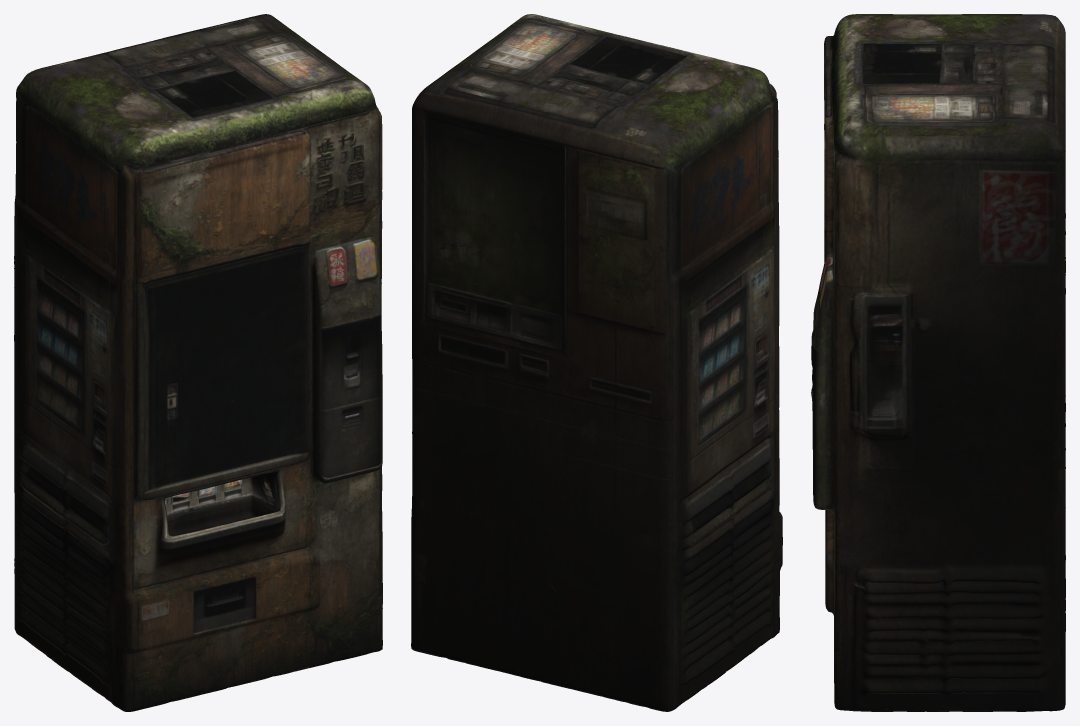
File: Vending_Machine_A_da_0423150552_refine.fbx
3 renders of one model, left to right at view 1: azimuth 30°, elevation 25°; view 2: azimuth 150°, elevation 25°; view 3: azimuth 270°, elevation 25°, orthographic. The views are drawn at different scales.
Visible parts, largest first — view 1: Mesh1; view 2: Mesh1; view 3: Mesh1.
Part boxes in pixels (x1,y1,x2,y2): Mesh1: [14, 14, 382, 711]; Mesh1: [411, 14, 782, 711]; Mesh1: [811, 14, 1065, 711].
Bounding box in the file's own units: 103 × 200 × 80.
1 material, 1 textured.
